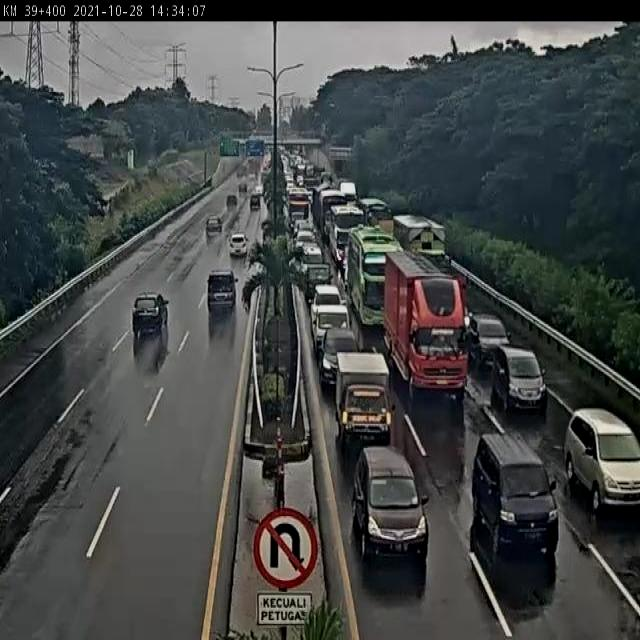Car: (352, 444, 431, 559), (566, 409, 640, 502), (492, 345, 550, 411), (126, 287, 172, 347), (228, 234, 248, 260)
Truck: (384, 248, 468, 396), (335, 350, 395, 444)
Van: (472, 434, 560, 556), (206, 269, 239, 313)
